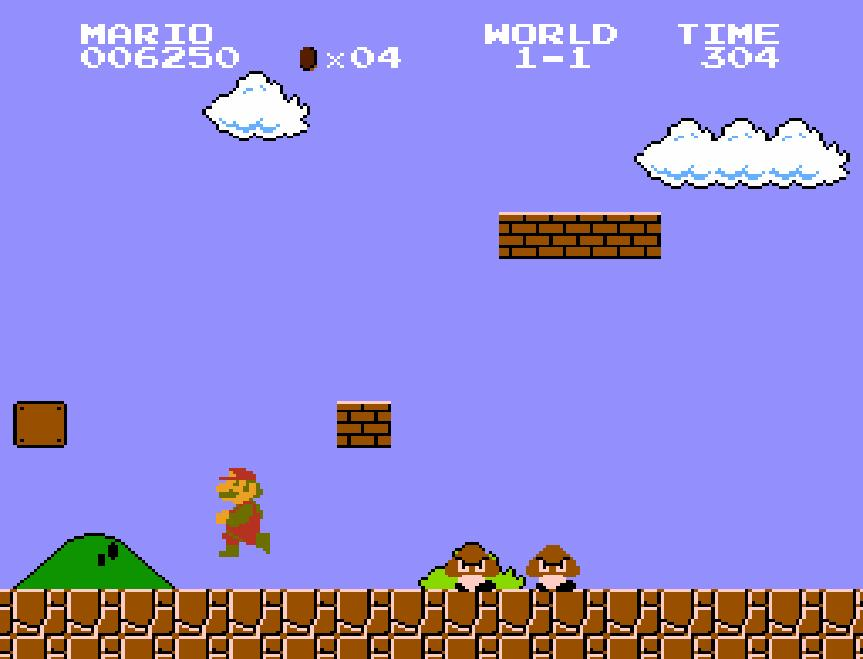big_mario: (213, 461, 271, 559)
